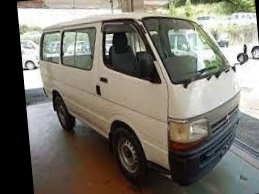van: (38, 3, 250, 192)
